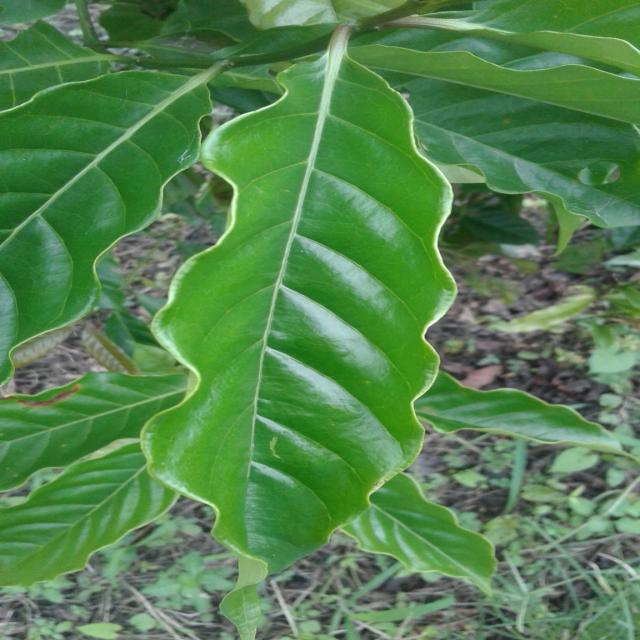Sanas: (140, 26, 457, 640)
